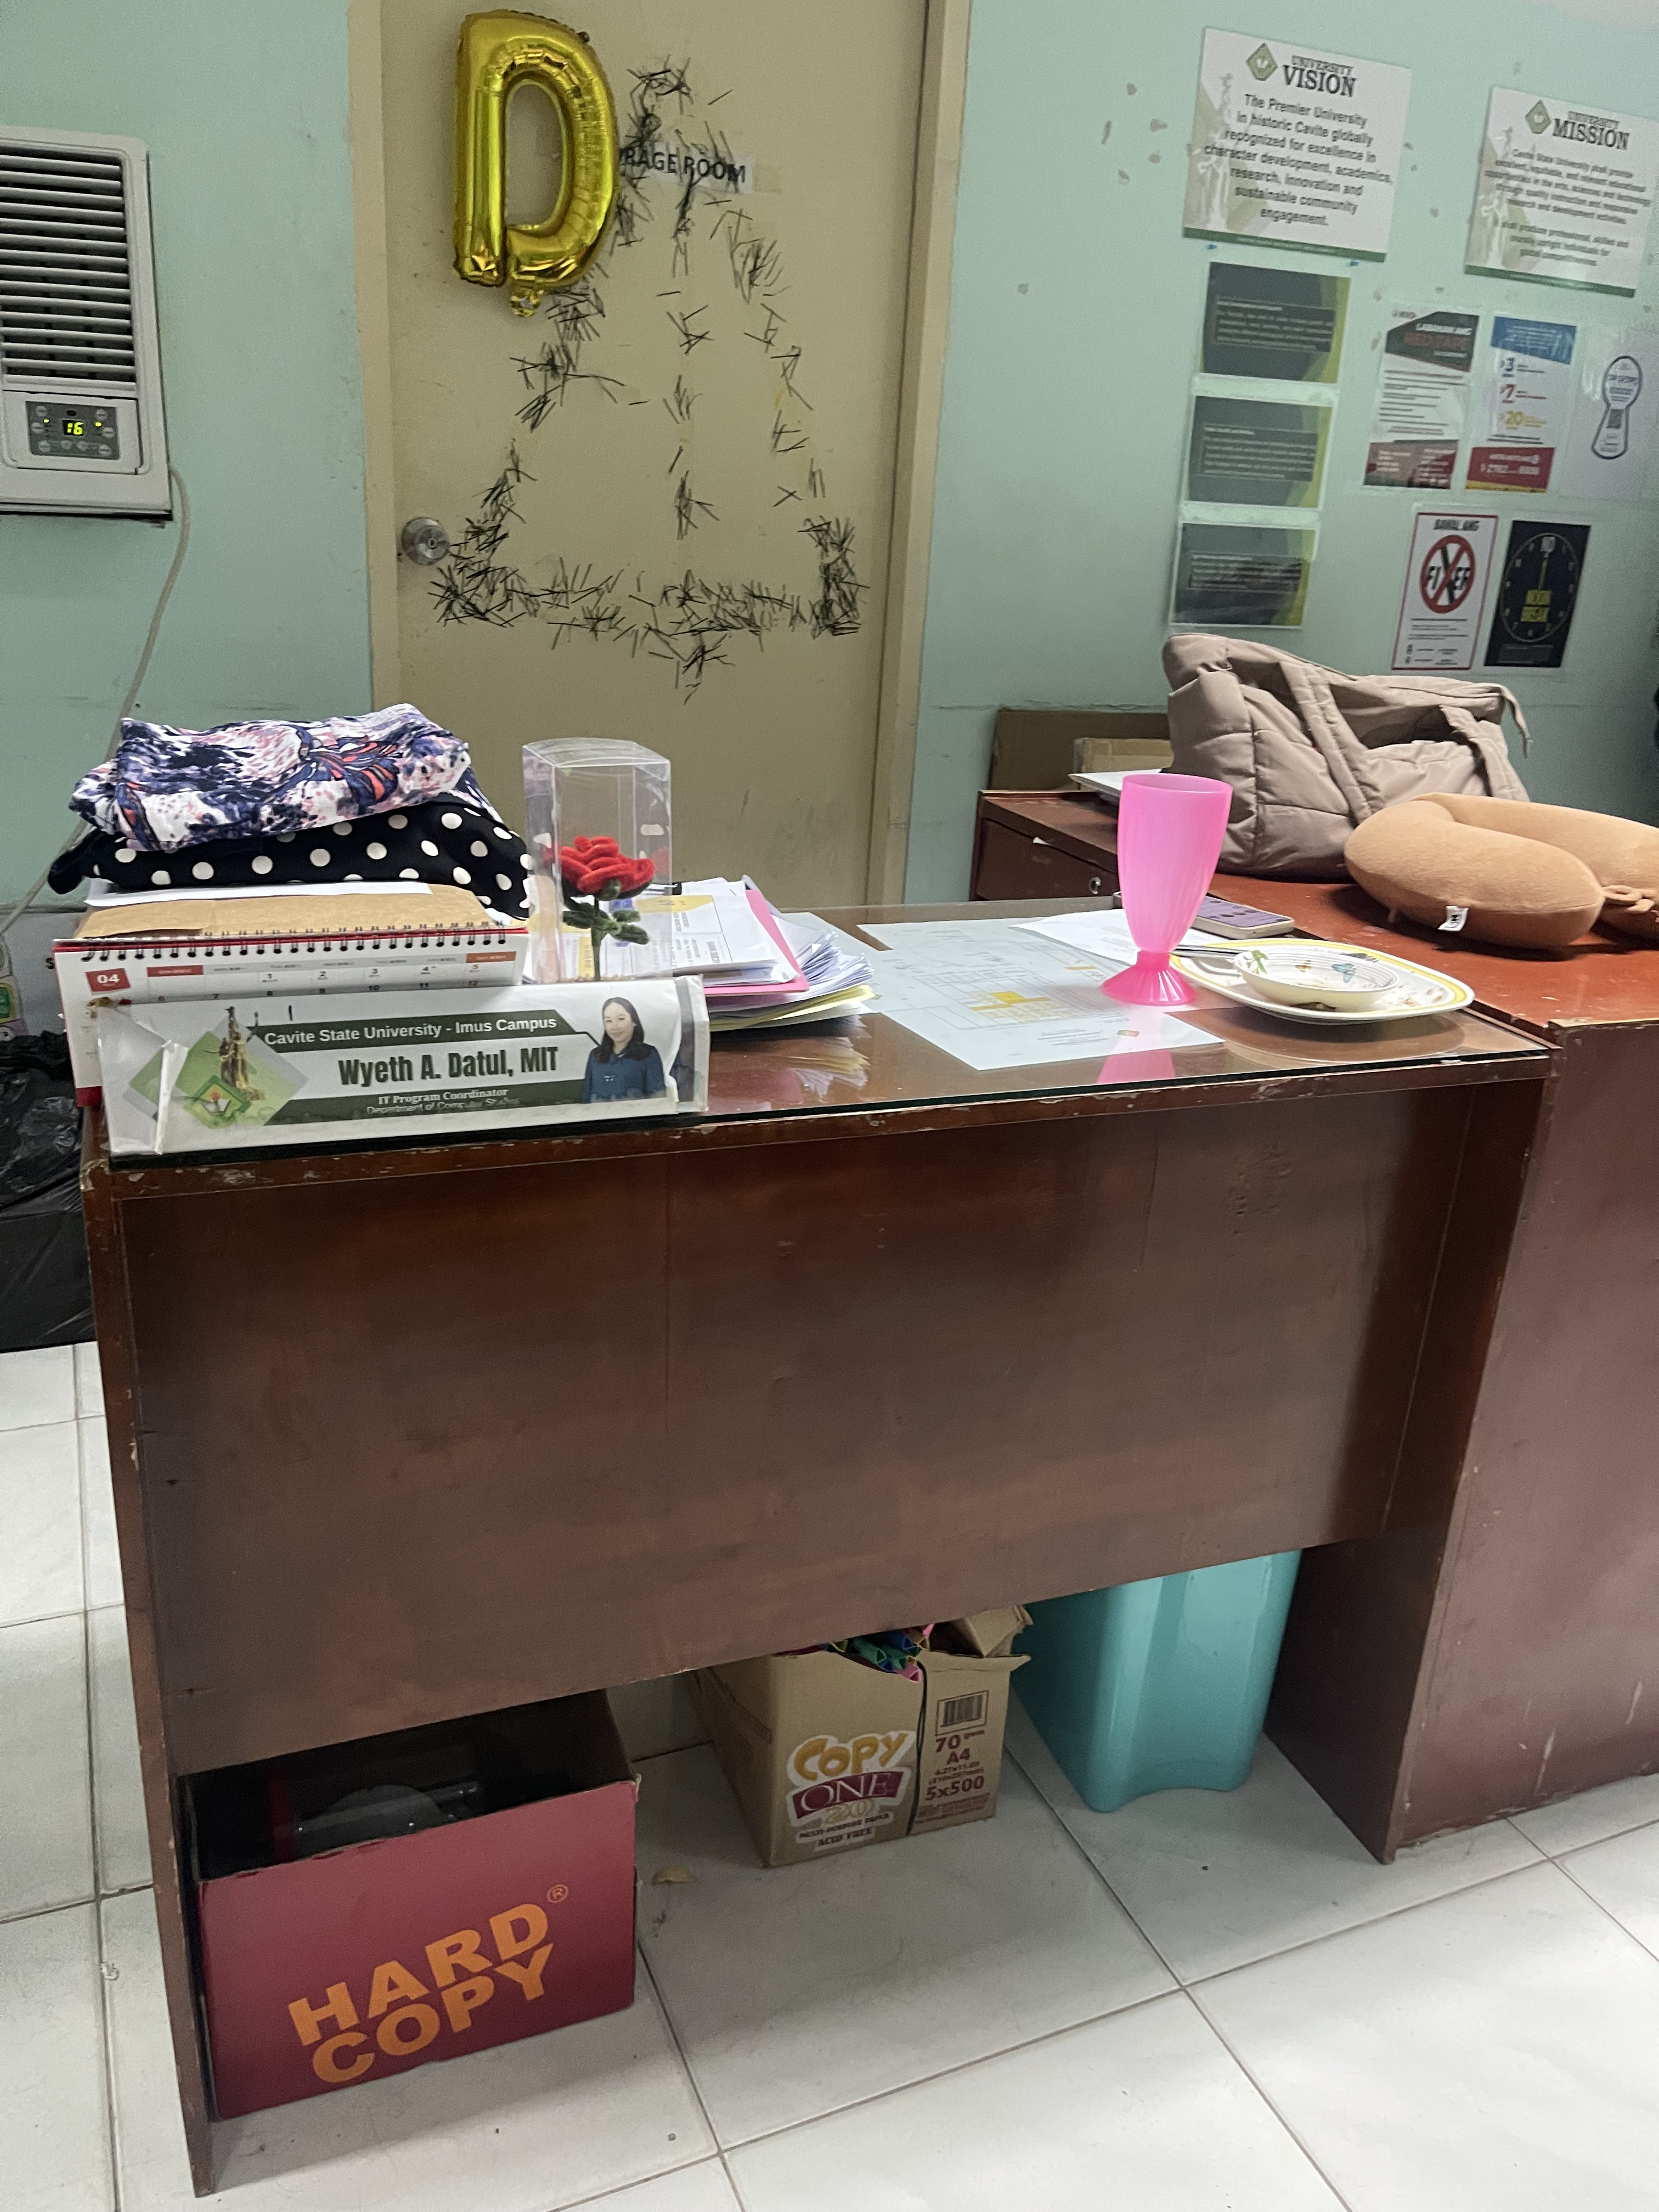table2: (31, 1078, 1659, 2205)
